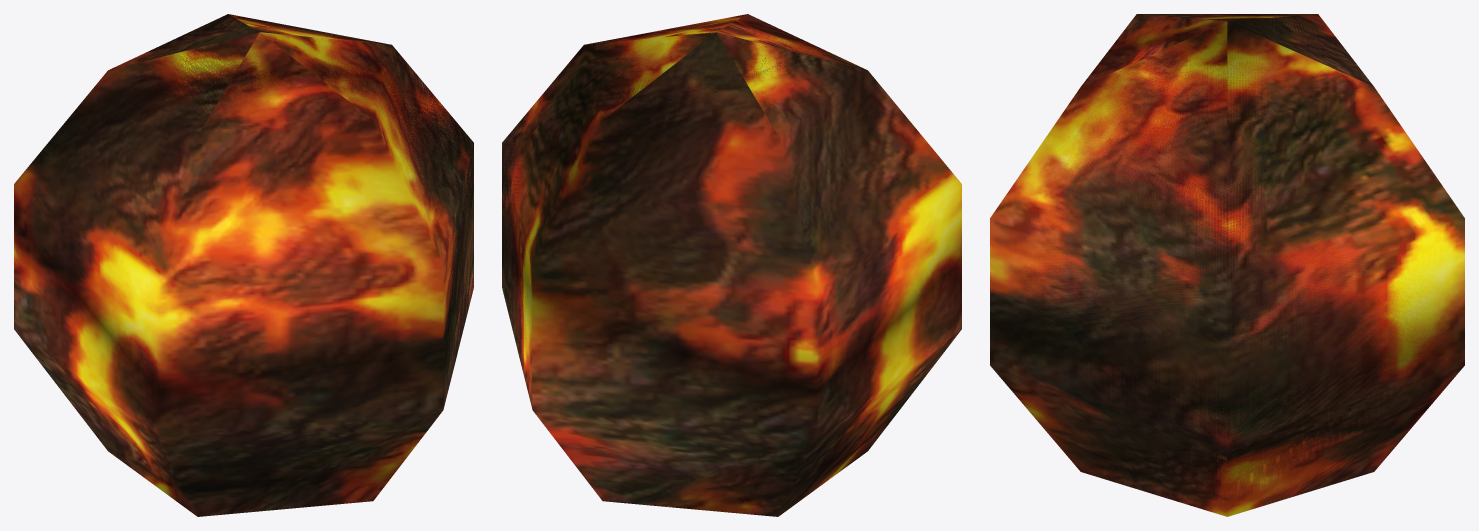
Rendered from fireball.glb.
3 renders of one model, left to right at view 1: azimuth 30°, elevation 25°; view 2: azimuth 150°, elevation 25°; view 3: azimuth 270°, elevation 25°, orthographic.
Parts seen in each view (by area): view 1: fireball_mesh; view 2: fireball_mesh; view 3: fireball_mesh.
Boxes of the visible parts, x1,y1,x2,y2 form: fireball_mesh: (14, 14, 473, 516); fireball_mesh: (502, 14, 961, 516); fireball_mesh: (990, 14, 1464, 516).
Bounding box in the file's own units: 0.173 × 0.201 × 0.1818.
Materials: 1 (1 with a texture image).
